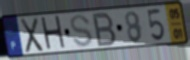5: (146, 8, 166, 42)
8: (124, 10, 143, 44)
B: (91, 11, 118, 49)
H: (39, 15, 68, 53)
S: (69, 14, 94, 49)
X: (19, 16, 45, 55)
